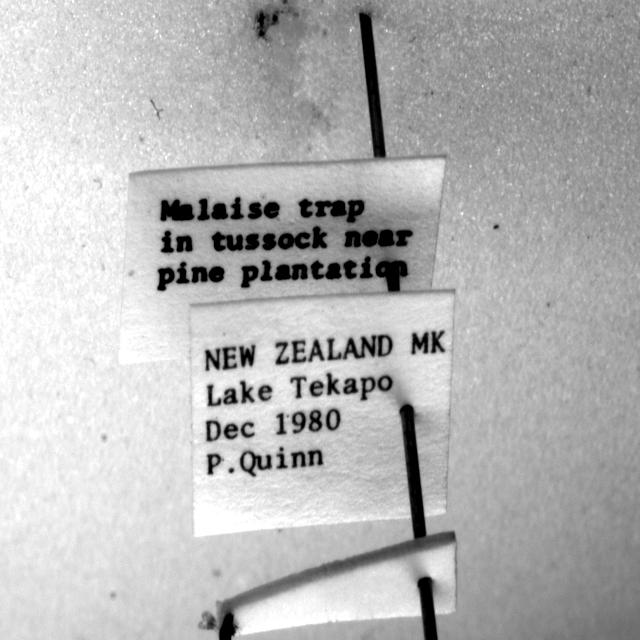typed_label: (119, 158, 445, 364), (190, 291, 455, 536)
